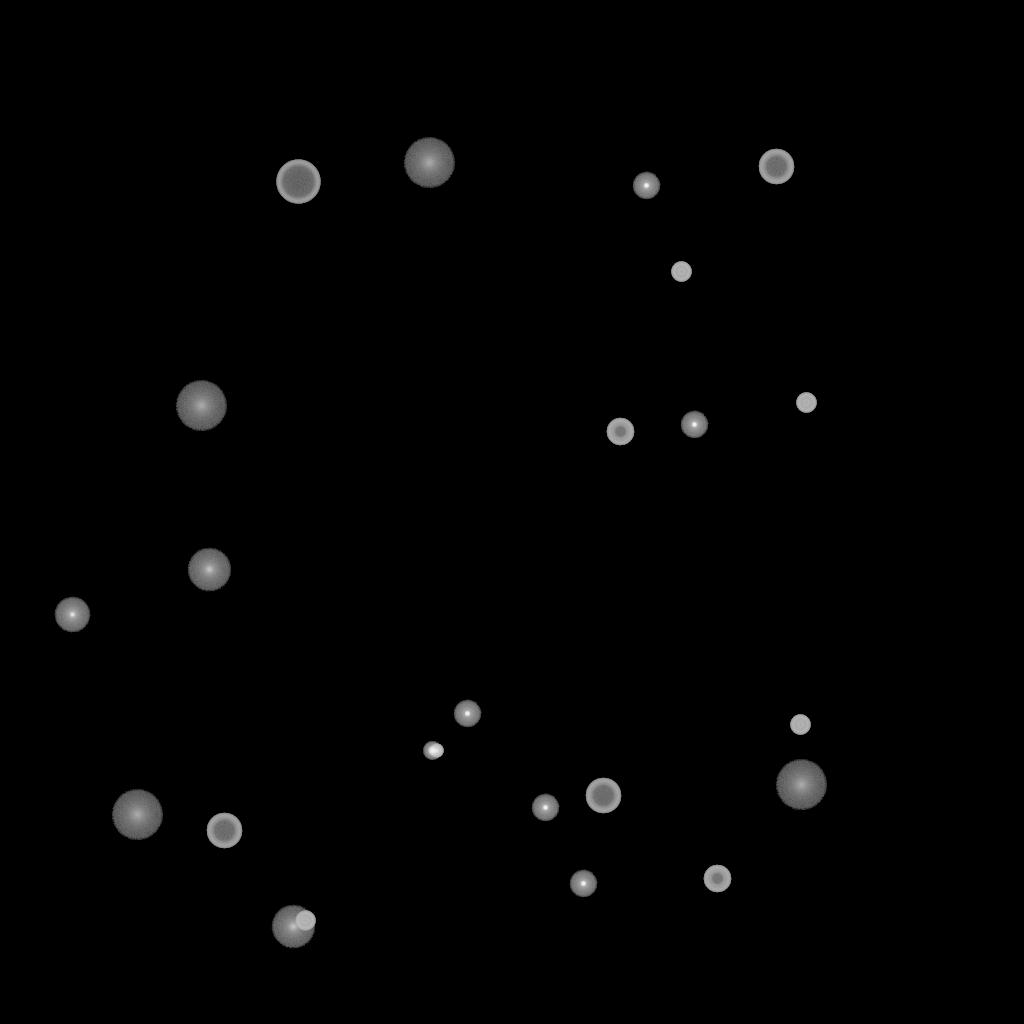depth:-10: (569, 870, 597, 898), (632, 172, 660, 200), (531, 794, 559, 822), (453, 700, 481, 728), (680, 411, 708, 439)
depth:-20: (423, 742, 441, 760)
depth:-30: (429, 744, 443, 758)
depth:-40: (295, 911, 315, 931), (790, 715, 810, 735), (796, 393, 816, 413), (671, 262, 691, 282)
depth:-50: (703, 865, 731, 893), (606, 418, 634, 446)
depth:-60: (585, 778, 621, 814), (206, 813, 242, 849), (758, 149, 794, 185)
depth:-70: (276, 160, 320, 204)
depth:0: (54, 597, 90, 633)
depth:10: (271, 905, 315, 949), (187, 548, 231, 592)
depth:20: (775, 760, 827, 810), (175, 381, 227, 431), (403, 138, 455, 188), (111, 790, 163, 840)
